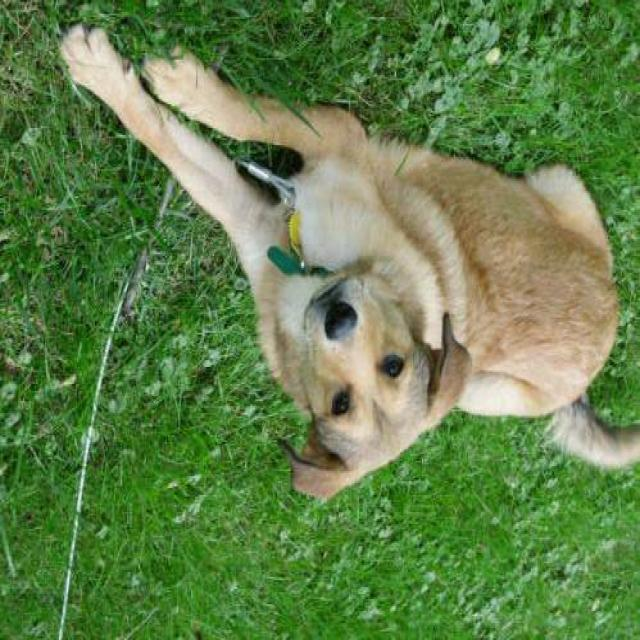dog: (46, 19, 640, 514)
